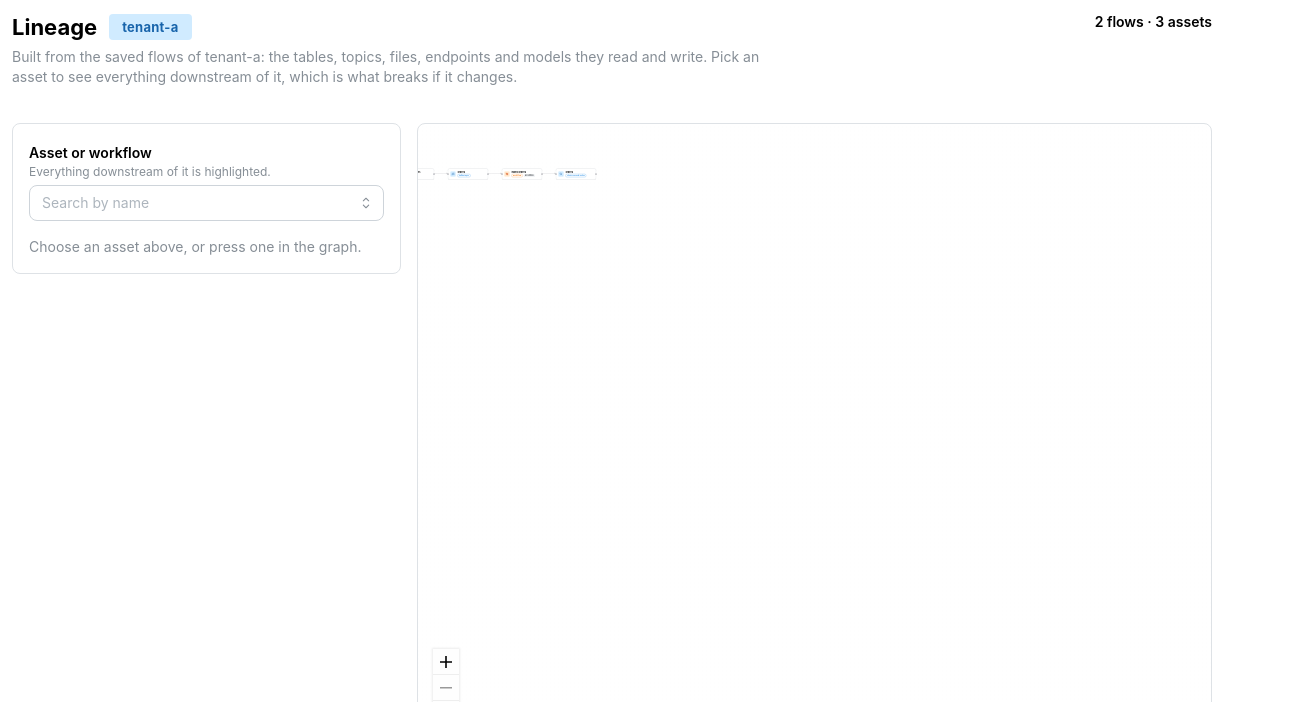
it: Lineage page › lists everything downstream of the chosen asset, nearest first, with the path
Step 1. Click the dropdown labelled "Asset or workflow" → (207, 203), box x1=29 y1=185 x2=384 y2=221
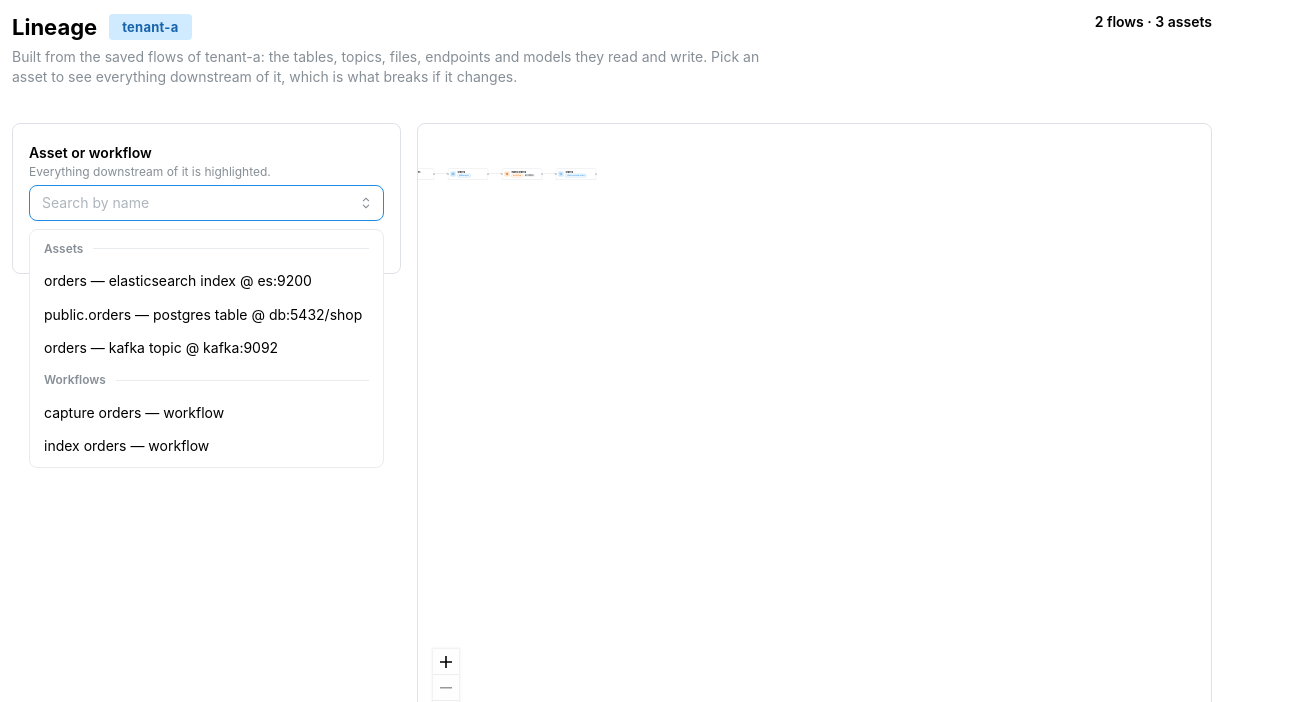
Step 2. Click the option "public.orders — postgres table @ db:5432/shop" → (203, 314), box x1=44 y1=306 x2=362 y2=323
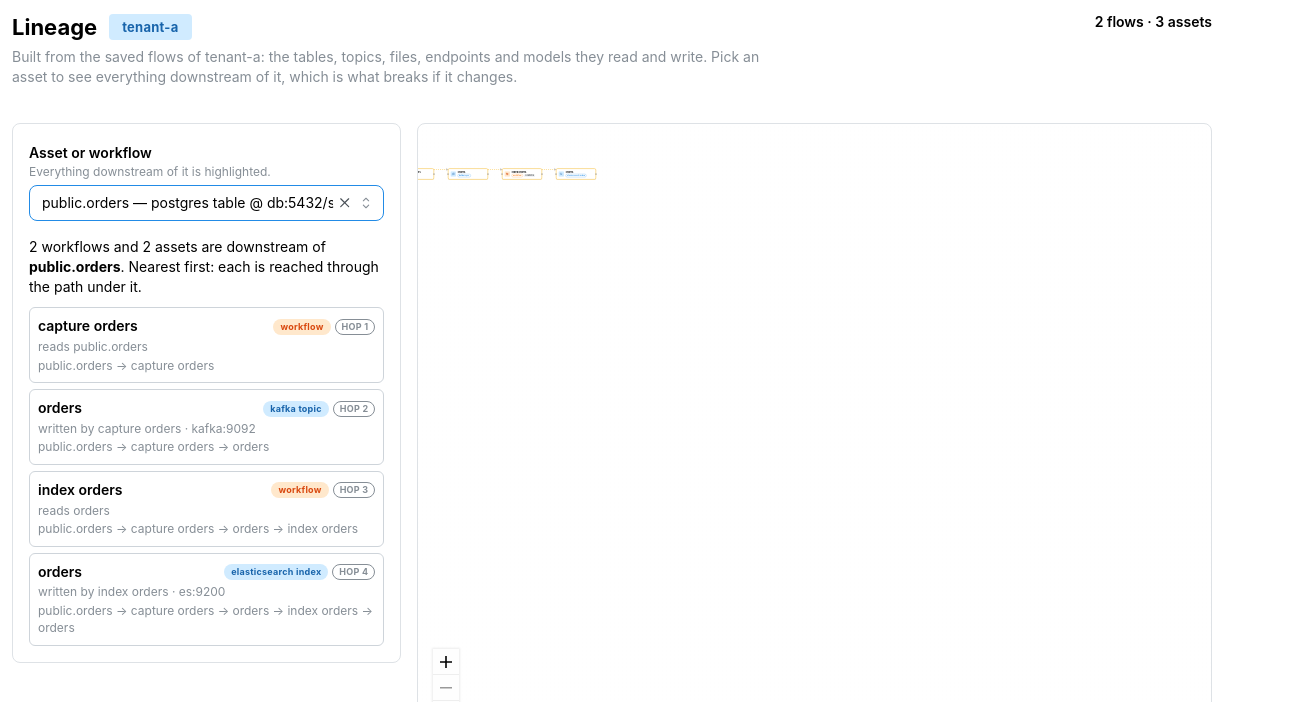
Result: the 4th list item shows "public.orders → capture orders → orders → index orders → orders" at x1=38 y1=603 x2=373 y2=635
Result: the text "2 workflows and 2 assets are downstream" is shown at x1=29 y1=237 x2=384 y2=298
